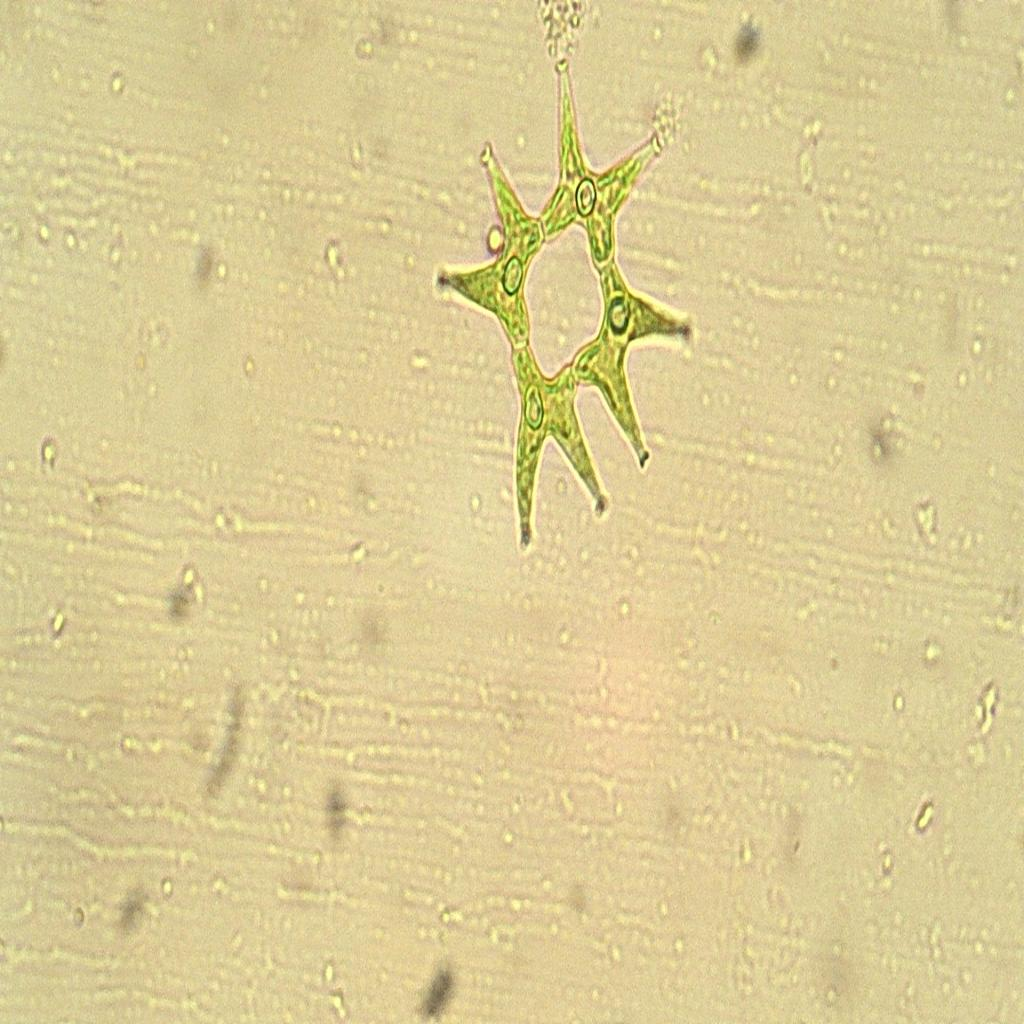Pediastrum_75O: (431, 44, 714, 577)
